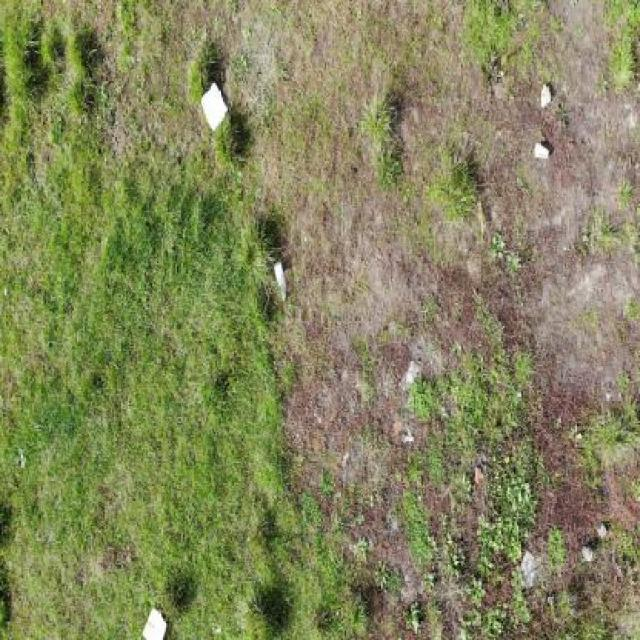Garbage: (199, 81, 230, 133), (143, 608, 168, 640), (272, 260, 287, 301), (534, 142, 549, 159)
